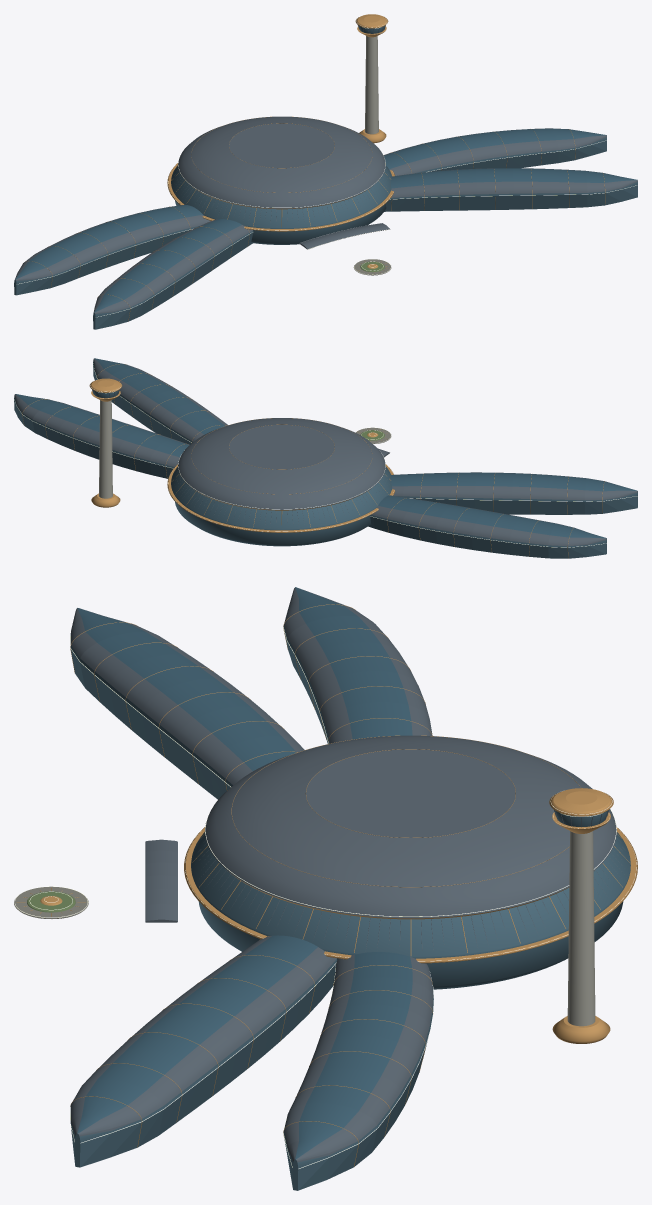
File: meridian-terminal.glb
3 renders of one model, top to bottom at view 1: azimuth 30°, elevation 25°; view 2: azimuth 150°, elevation 25°; view 3: azimuth 270°, elevation 25°, orthographic. The views are drawn at different scales.
Parts seen in each view (by area): view 1: airport-rotunda-crown, airport-rotunda-drum, airport-rotunda, signal-tower, terminal-wing-1-1-7, terminal-wing-1-1-8, terminal-wing-1-1-9, terminal-wing-1-1-6, terminal-wing-1-1-10, rotunda-low-eave, terminal-wing-1-1-5, terminal-wing-1-1-11 (+41 smaller); view 2: airport-rotunda-crown, airport-rotunda-drum, airport-rotunda, signal-tower, rotunda-low-eave, terminal-wing--1-1-9, terminal-wing--1-0-9, terminal-wing--1-0-10, terminal-wing--1-1-8, terminal-wing--1-0-8, terminal-wing--1-1-10, terminal-wing--1-0-11 (+41 smaller); view 3: airport-rotunda-crown, airport-rotunda-drum, signal-tower, airport-rotunda, rotunda-low-eave, terminal-wing-1-1-10, terminal-wing-1-1-9, terminal-wing-1-1-11, Bronze detailing, terminal-wing-1-1-8, terminal-wing-1-1-13, terminal-wing--1-1-5 (+46 smaller).
Part boxes in pixels (x1=…): airport-rotunda-crown: x1=178, y1=116, x2=385, y2=209; airport-rotunda-drum: x1=171, y1=165, x2=391, y2=228; airport-rotunda: x1=175, y1=200, x2=386, y2=244; signal-tower: x1=365, y1=36, x2=378, y2=134; terminal-wing-1-1-7: x1=475, y1=168, x2=495, y2=210; terminal-wing-1-1-8: x1=494, y1=168, x2=513, y2=209; terminal-wing-1-1-9: x1=512, y1=168, x2=532, y2=209; terminal-wing-1-1-6: x1=457, y1=169, x2=477, y2=210; terminal-wing-1-1-10: x1=531, y1=168, x2=550, y2=209; rotunda-low-eave: x1=167, y1=163, x2=394, y2=231; terminal-wing-1-1-5: x1=439, y1=169, x2=459, y2=210; terminal-wing-1-1-11: x1=549, y1=169, x2=568, y2=208; airport-rotunda-crown: x1=178, y1=418, x2=385, y2=510; airport-rotunda-drum: x1=171, y1=467, x2=392, y2=530; airport-rotunda: x1=175, y1=502, x2=371, y2=546; signal-tower: x1=99, y1=400, x2=112, y2=498; rotunda-low-eave: x1=167, y1=464, x2=395, y2=532; terminal-wing--1-1-9: x1=512, y1=473, x2=531, y2=514; terminal-wing--1-0-9: x1=472, y1=511, x2=503, y2=552; terminal-wing--1-0-10: x1=490, y1=514, x2=521, y2=554; terminal-wing--1-1-8: x1=493, y1=472, x2=513, y2=514; terminal-wing--1-0-8: x1=453, y1=508, x2=486, y2=549; terminal-wing--1-1-10: x1=530, y1=474, x2=550, y2=514; terminal-wing--1-0-11: x1=509, y1=517, x2=538, y2=556; airport-rotunda-crown: x1=205, y1=735, x2=616, y2=919; airport-rotunda-drum: x1=191, y1=832, x2=630, y2=958; signal-tower: x1=567, y1=831, x2=595, y2=1026; airport-rotunda: x1=198, y1=901, x2=623, y2=989; rotunda-low-eave: x1=184, y1=827, x2=637, y2=963; terminal-wing-1-1-10: x1=115, y1=1032, x2=218, y2=1109; terminal-wing-1-1-9: x1=132, y1=1018, x2=235, y2=1095; terminal-wing-1-1-11: x1=100, y1=1047, x2=200, y2=1122; Bronze detailing: x1=70, y1=604, x2=433, y2=1143; terminal-wing-1-1-8: x1=148, y1=1004, x2=253, y2=1082; terminal-wing-1-1-13: x1=73, y1=1079, x2=163, y2=1147; terminal-wing--1-1-5: x1=193, y1=721, x2=296, y2=796.
Bounding box in the file's own units: 517 × 99 × 238.
